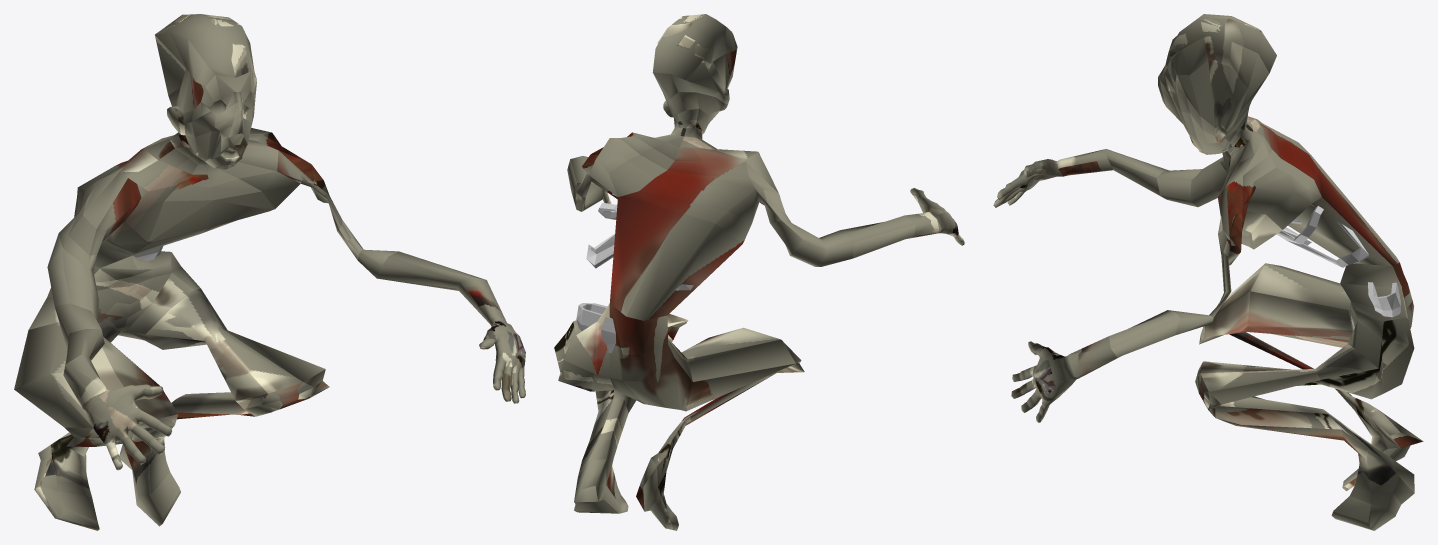
The picture shows the model from 3 angles, left to right: view 1: azimuth 30°, elevation 25°; view 2: azimuth 150°, elevation 25°; view 3: azimuth 270°, elevation 25°; orthographic projection. The views are drawn at different scales.
Parts seen in each view (by area): view 1: Main__Hips_.001; view 2: Main__Hips_.001; view 3: Main__Hips_.001.
Part boxes in pixels (x1=…): Main__Hips_.001: x1=14, y1=14, x2=525, y2=530; Main__Hips_.001: x1=554, y1=14, x2=964, y2=530; Main__Hips_.001: x1=993, y1=14, x2=1423, y2=530.
Bounding box in the file's own units: 1 × 1.23 × 0.9715.
